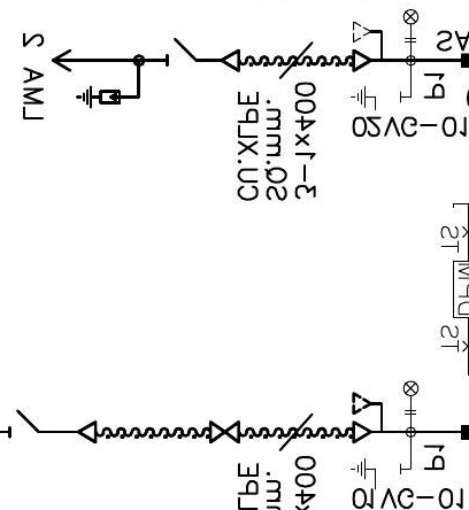22_ds_la_out: (50, 37, 198, 109)
22_gs: (350, 457, 403, 490), (350, 85, 403, 113)
22_ll: (402, 380, 420, 416), (402, 8, 419, 44)
terminator_single: (220, 48, 242, 74), (77, 419, 99, 445)
terminator_splicing_kits: (209, 420, 241, 444)
terminator_w_future: (351, 391, 385, 445), (351, 19, 384, 73)
